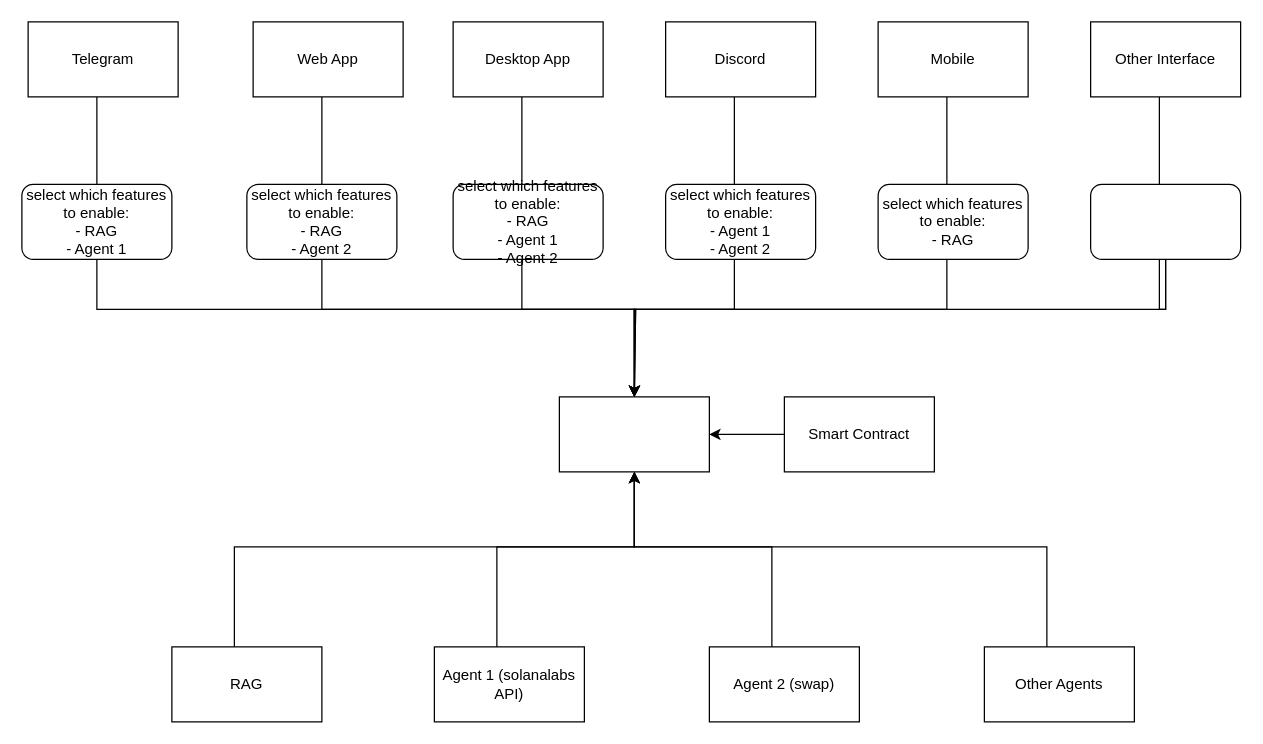
Some shapes in this 1263 by 744 pixel diagram are drawn without their labels. Each missing label, with the box of its shape:
BlockChat API: (558, 396, 709, 472)
select which features to enable: - Other agents: (1089, 183, 1241, 259)
